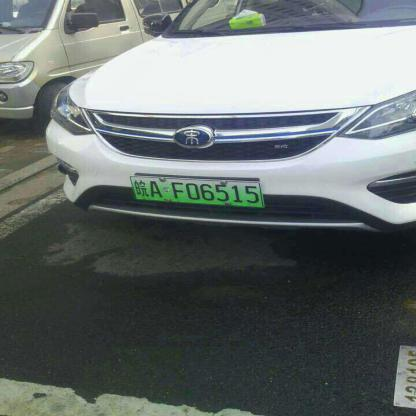lp: (130, 176, 262, 206)
